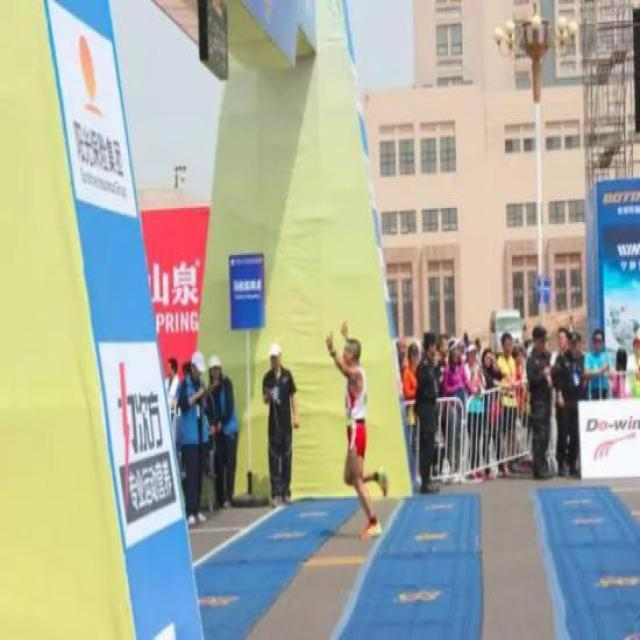non-fight: (320, 319, 392, 538), (252, 342, 308, 506), (414, 332, 449, 494), (526, 325, 556, 482)
